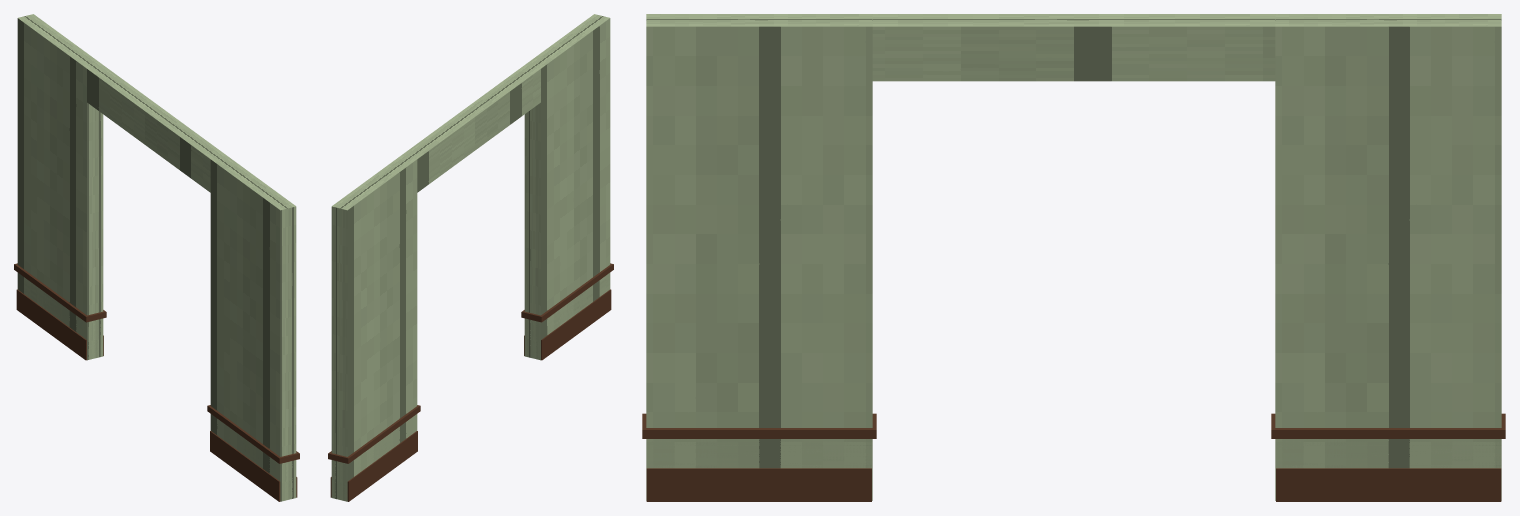
Rendered from living_dining.glb.
3 renders of one model, left to right at view 1: azimuth 30°, elevation 25°; view 2: azimuth 150°, elevation 25°; view 3: azimuth 270°, elevation 25°, orthographic. The views are drawn at different scales.
Visible parts, largest first — view 1: Box3, Box1, Box5, Box4, Box2, Box6, Box9, Box7; view 2: Box1, Box3, Box5, Box2, Box4, Box8, Box7, Box9; view 3: Box3, Box1, Box5, Box2, Box4, Box6, Box8, Box7, Box9.
Part boxes in pixels (<box>): Box3: <box>210,155,296,501</box>; Box1: <box>17,14,103,360</box>; Box5: <box>87,65,226,192</box>; Box4: <box>210,431,297,501</box>; Box2: <box>16,289,103,360</box>; Box6: <box>17,273,102,359</box>; Box9: <box>207,405,299,463</box>; Box7: <box>14,263,106,322</box>; Box1: <box>331,155,417,501</box>; Box3: <box>524,14,610,360</box>; Box5: <box>401,65,540,192</box>; Box2: <box>330,431,417,501</box>; Box4: <box>524,289,611,360</box>; Box8: <box>525,273,610,359</box>; Box7: <box>328,405,420,463</box>; Box9: <box>521,263,613,322</box>; Box3: <box>646,14,872,500</box>; Box1: <box>1275,14,1501,500</box>; Box5: <box>872,14,1275,81</box>; Box2: <box>1276,468,1501,501</box>; Box4: <box>646,468,871,501</box>; Box6: <box>1275,439,1501,500</box>; Box8: <box>646,439,872,500</box>; Box7: <box>1271,413,1505,438</box>; Box9: <box>642,413,876,438</box>.
Bounding box in the file's own units: 0.19 × 2.6 × 4.29.
2 materials, 1 textured.
